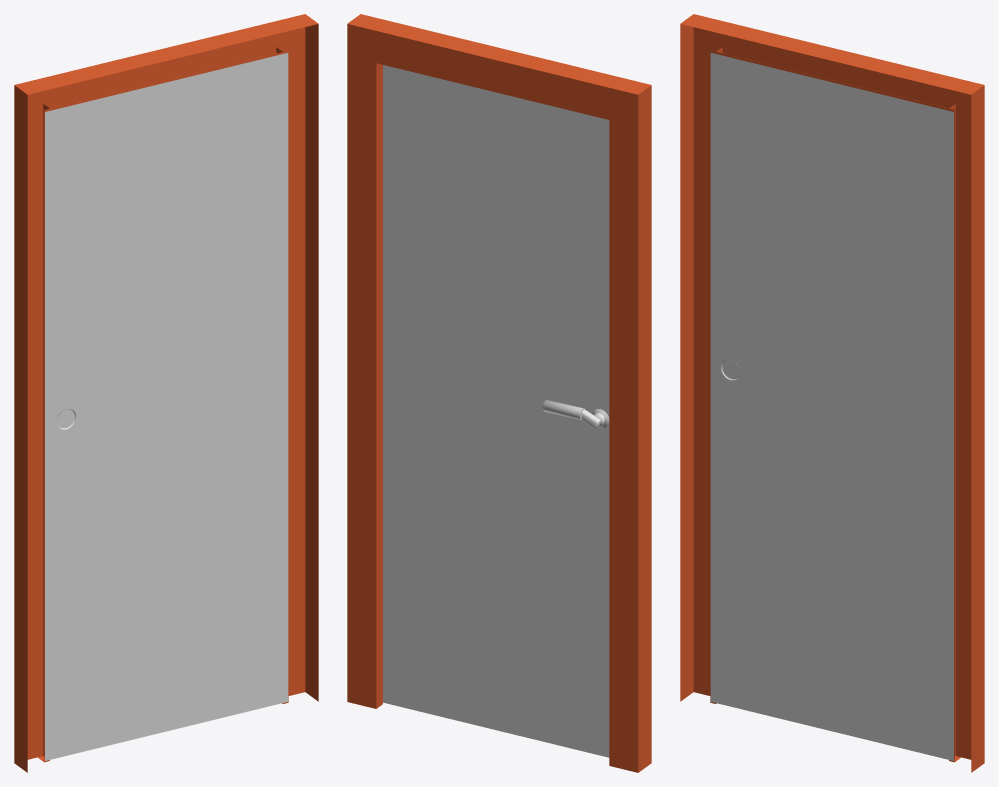
The model's file is Door.fbx.
3 views of the same model, side by side, from view 1: azimuth 30°, elevation 25°; view 2: azimuth 150°, elevation 25°; view 3: azimuth 330°, elevation 25° (orthographic).
Visible parts, largest first — view 1: DoorFrame; view 2: DoorFrame; view 3: DoorFrame.
Part boxes in pixels (x1,y1,x2,y2): DoorFrame: (14,14,318,772); DoorFrame: (347,14,651,772); DoorFrame: (680,14,984,772).
Bounding box in the file's own units: 100 × 223 × 9.12.
